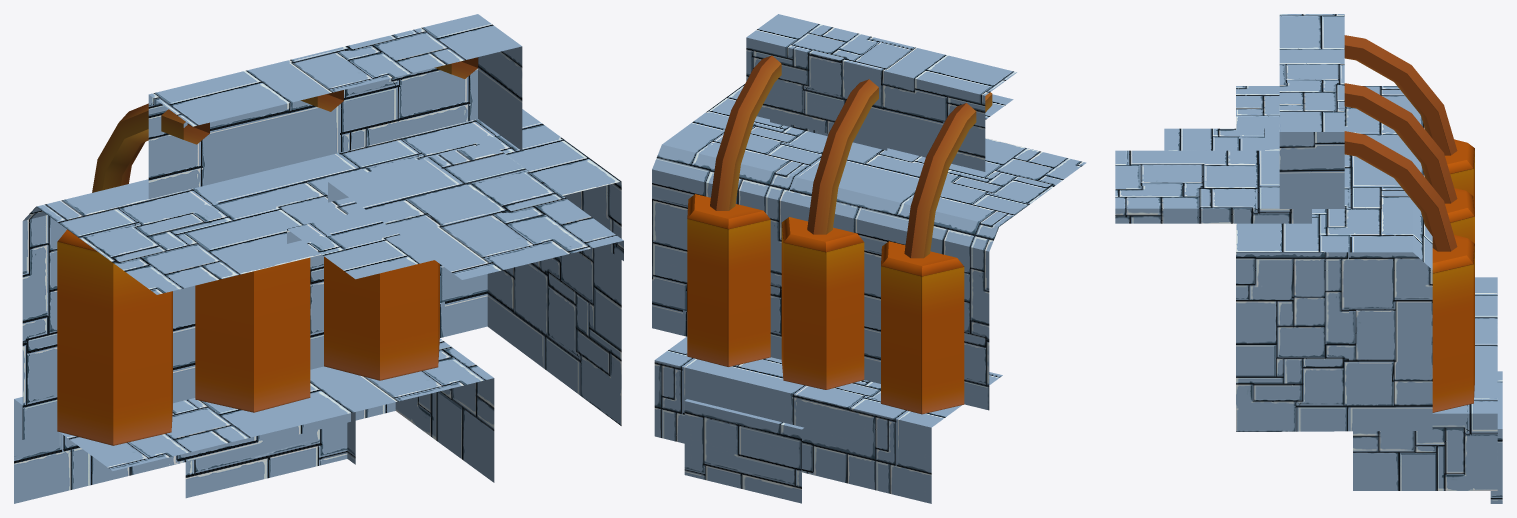
File: JC_ModPanels_EdgeTile_I.fbx
3 views of the same model, side by side, from view 1: azimuth 30°, elevation 25°; view 2: azimuth 150°, elevation 25°; view 3: azimuth 270°, elevation 25° (orthographic). The views are drawn at different scales.
Parts seen in each view (by area): view 1: JC_ModPanels_EdgeTile_I2; view 2: JC_ModPanels_EdgeTile_I2; view 3: JC_ModPanels_EdgeTile_I2.
Part boxes in pixels (left/top/right/bottom): JC_ModPanels_EdgeTile_I2: left=14, top=14, right=623, bottom=503; JC_ModPanels_EdgeTile_I2: left=652, top=14, right=1086, bottom=503; JC_ModPanels_EdgeTile_I2: left=1115, top=14, right=1502, bottom=503.
Size of the model in its own units: 2 by 2.13 by 1.97.
